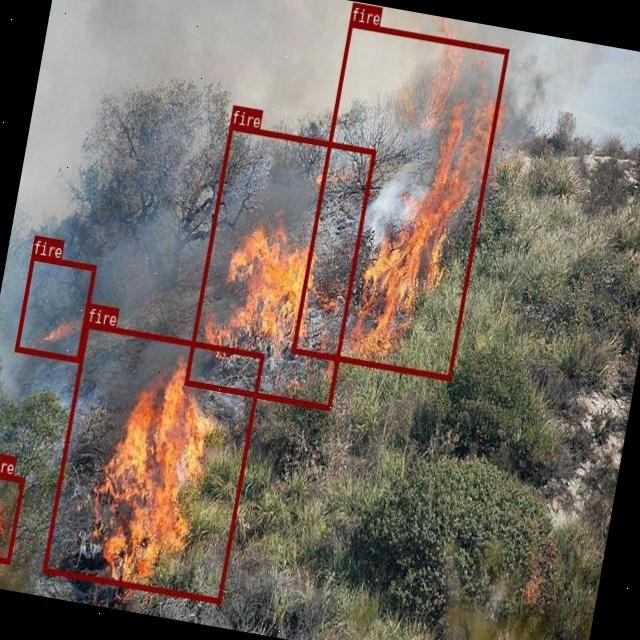fire: (290, 19, 508, 380), (42, 321, 264, 603), (184, 123, 376, 410), (14, 253, 96, 362), (0, 469, 24, 562)
